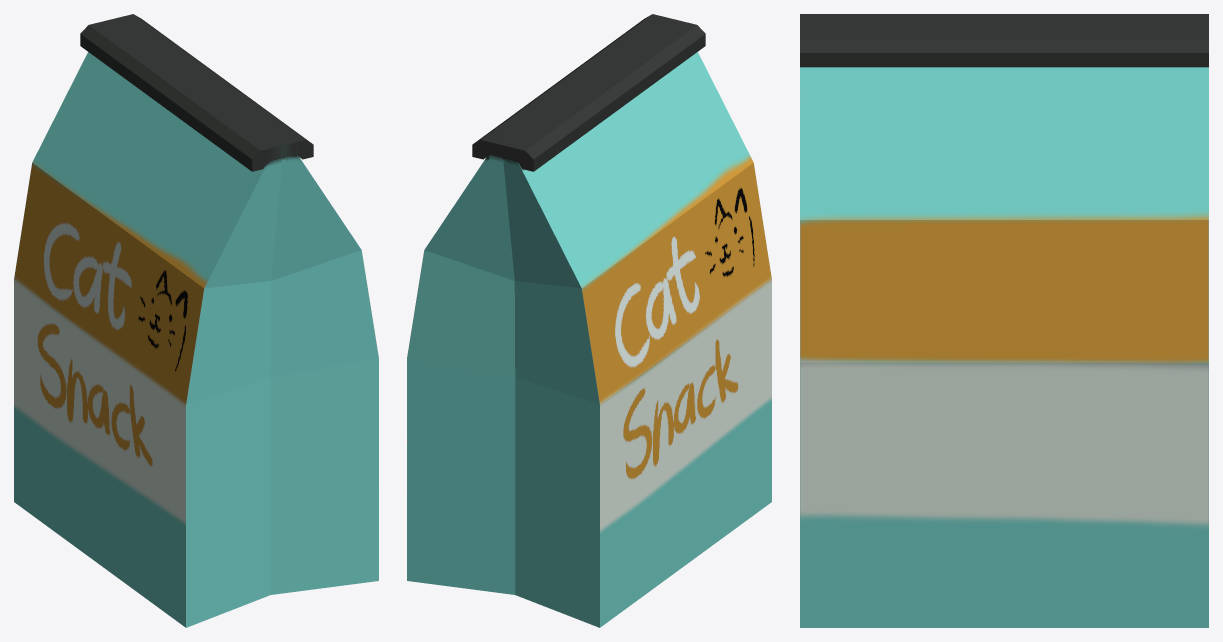
File: CatSnackSack.fbx
3 views of the same model, side by side, from view 1: azimuth 30°, elevation 25°; view 2: azimuth 150°, elevation 25°; view 3: azimuth 270°, elevation 25° (orthographic). The views are drawn at different scales.
Visible parts, largest first — view 1: Cube; view 2: Cube; view 3: Cube.
Boxes of the visible parts, left/top/right/bottom form: Cube: left=14, top=14, right=378, bottom=627; Cube: left=407, top=14, right=771, bottom=627; Cube: left=800, top=14, right=1208, bottom=627.
Bounding box in the file's own units: 28.17 × 64.09 × 43.53.
